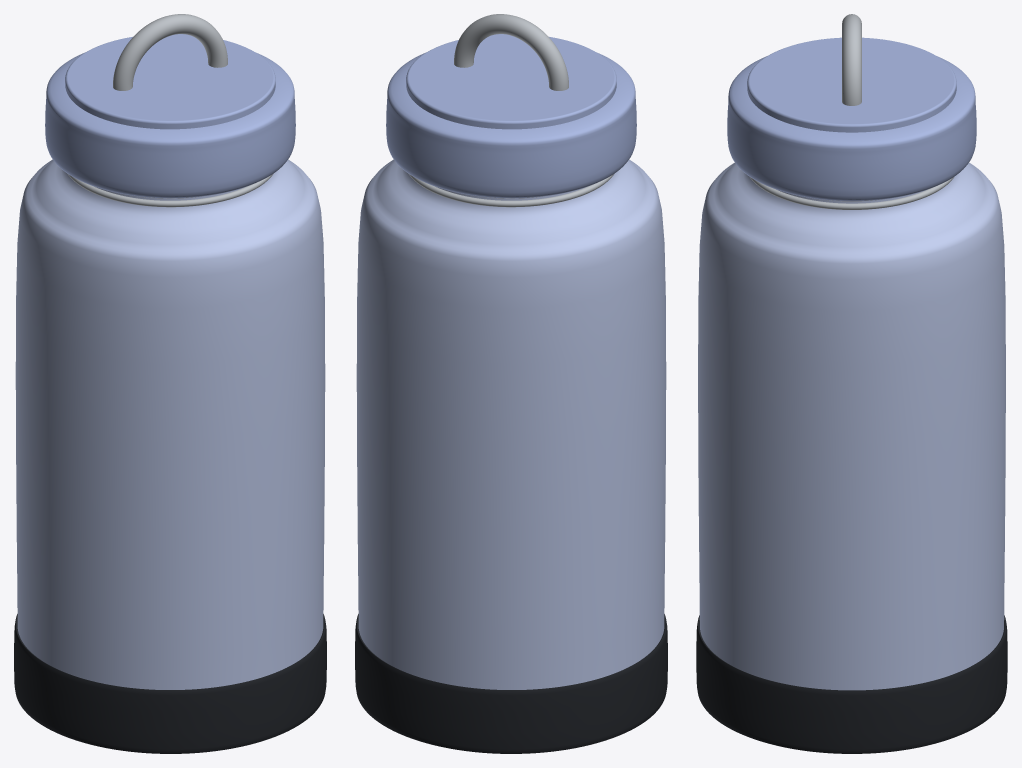
Rendered from insulated-bottle.glb.
3 views of the same model, side by side, from view 1: azimuth 30°, elevation 25°; view 2: azimuth 150°, elevation 25°; view 3: azimuth 270°, elevation 25° (orthographic).
Visible parts, largest first — view 1: sculpted-surface (×2), machined-annular-ring, lid-and-attached-carrying-loop-007, lid-and-attached-carrying-loop-008, threaded-neck-003; view 2: sculpted-surface (×2), machined-annular-ring, lid-and-attached-carrying-loop-007, lid-and-attached-carrying-loop-008, threaded-neck-003; view 3: sculpted-surface (×2), machined-annular-ring, lid-and-attached-carrying-loop-007, lid-and-attached-carrying-loop-008, threaded-neck-003.
Boxes of the visible parts, x1=… form: sculpted-surface (×2): x1=15, y1=52, x2=325, y2=689; machined-annular-ring: x1=14, y1=614, x2=326, y2=753; lid-and-attached-carrying-loop-007: x1=65, y1=34, x2=275, y2=129; lid-and-attached-carrying-loop-008: x1=113, y1=14, x2=227, y2=90; threaded-neck-003: x1=68, y1=173, x2=273, y2=207; sculpted-surface (×2): x1=356, y1=52, x2=666, y2=689; machined-annular-ring: x1=355, y1=614, x2=667, y2=753; lid-and-attached-carrying-loop-007: x1=406, y1=34, x2=616, y2=129; lid-and-attached-carrying-loop-008: x1=454, y1=14, x2=568, y2=90; threaded-neck-003: x1=408, y1=173, x2=613, y2=207; sculpted-surface (×2): x1=698, y1=56, x2=1005, y2=690; machined-annular-ring: x1=696, y1=615, x2=1007, y2=753; lid-and-attached-carrying-loop-007: x1=747, y1=37, x2=956, y2=132; lid-and-attached-carrying-loop-008: x1=842, y1=14, x2=861, y2=105; threaded-neck-003: x1=750, y1=177, x2=953, y2=209.
Size of the model in its own units: 0.8438 by 2 by 0.8438.
